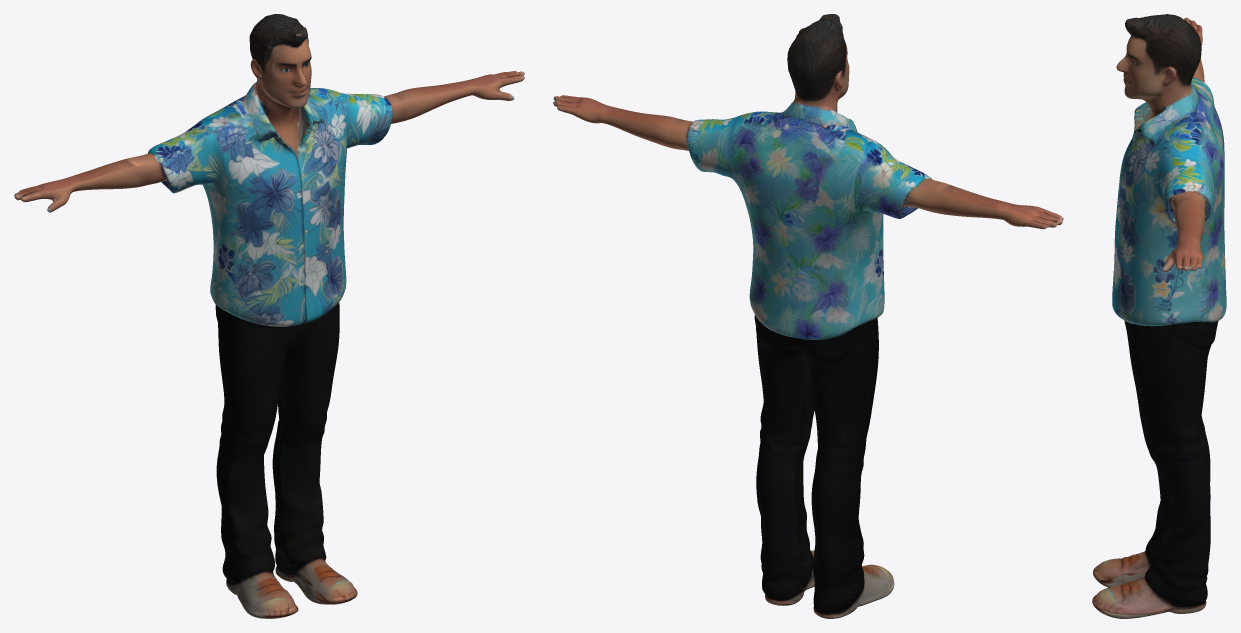
Rendered from hawaiian_shirt_vibe-v1.glb.
3 views of the same model, side by side, from view 1: azimuth 30°, elevation 25°; view 2: azimuth 150°, elevation 25°; view 3: azimuth 270°, elevation 25° (orthographic).
Visible parts, largest first — view 1: Object_4, Object_5; view 2: Object_5, Object_4; view 3: Object_4, Object_5.
Part boxes in pixels (x1,y1,x2,y2): Object_4: (40, 14, 514, 618); Object_5: (14, 14, 524, 593); Object_5: (553, 27, 1063, 618); Object_4: (581, 14, 1043, 609); Object_4: (1092, 14, 1209, 618); Object_5: (1165, 17, 1226, 613).
Size of the model in its own units: 1.85 by 1.99 by 0.4196.
1 material, 1 textured.
